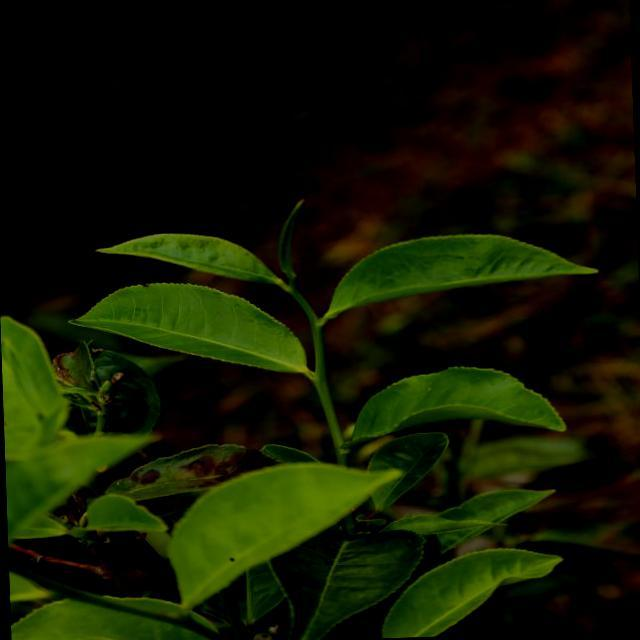Stem: (313, 322, 322, 334)
